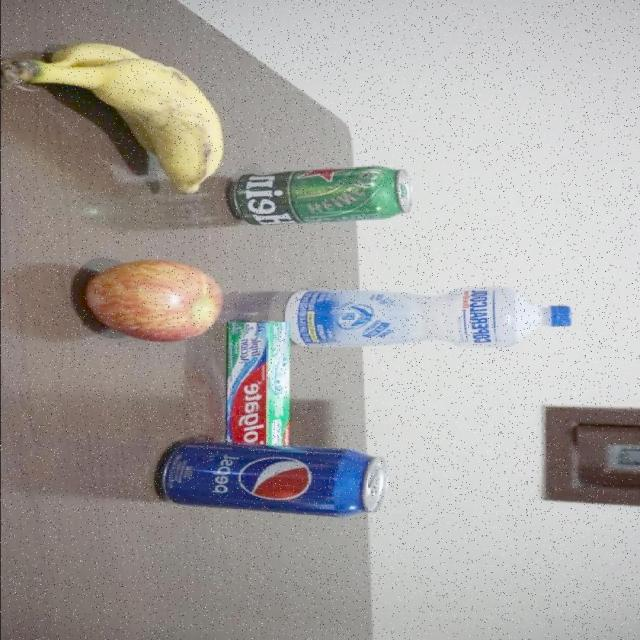AlcoholBottle: (284, 284, 572, 350)
Apple: (82, 258, 223, 344)
Banana: (0, 41, 224, 196)
BeerCan: (230, 164, 414, 226)
SodaCan: (151, 442, 389, 520)
Toothpaste: (222, 319, 292, 449)
